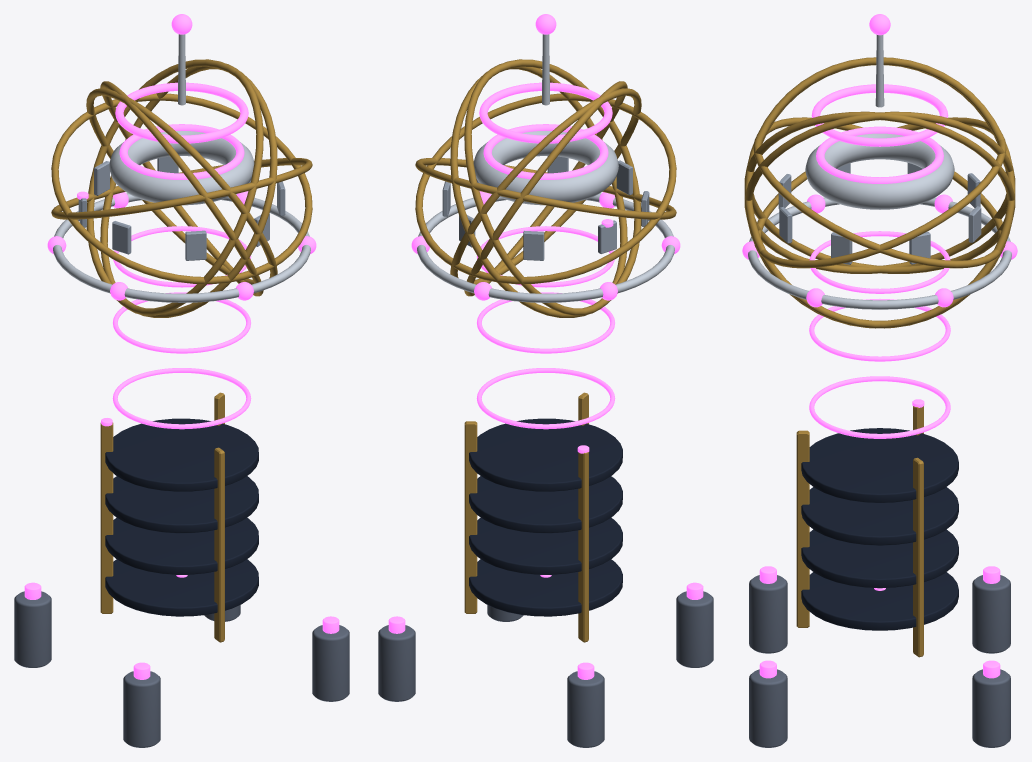
The model's file is tower_arc_damage_s10.glb.
3 views of the same model, side by side, from view 1: azimuth 30°, elevation 25°; view 2: azimuth 150°, elevation 25°; view 3: azimuth 270°, elevation 25° (orthographic). The views are drawn at different scales.
Visible parts, largest first — view 1: arc_insulator_sleeve3, arc_insulator_sleeve2, arc_insulator_sleeve1, arc_insulator_sleeve0, arc_toroid_b, arc_cage_rib3, arc_cage_rib2, arc_cage_rib5, arc_electrode_ring, arc_cage_rib1, arc_cage_rib0, arc_cage_rib4 (+13 smaller); view 2: arc_insulator_sleeve3, arc_insulator_sleeve2, arc_insulator_sleeve1, arc_insulator_sleeve0, arc_toroid_b, arc_cage_rib0, arc_cage_rib5, arc_cage_rib2, arc_electrode_ring, arc_cage_rib4, arc_cage_rib3, arc_cage_rib1 (+12 smaller); view 3: arc_insulator_sleeve3, arc_toroid_b, arc_insulator_sleeve2, arc_insulator_sleeve1, arc_insulator_sleeve0, arc_cage_rib2, arc_cage_rib5, arc_electrode_ring, arc_cage_rib0, arc_cage_rib3, arc_cage_rib1, arc_cage_rib4 (+14 smaller).
Boxes of the visible parts, box(x1,y1,x2,y2) form: arc_insulator_sleeve3: box(105, 418, 258, 491); arc_insulator_sleeve2: box(105, 476, 258, 533); arc_insulator_sleeve1: box(105, 517, 258, 574); arc_insulator_sleeve0: box(105, 559, 258, 616); arc_toroid_b: box(109, 131, 254, 205); arc_cage_rib3: box(51, 93, 312, 284); arc_cage_rib2: box(86, 59, 277, 317); arc_cage_rib5: box(100, 64, 263, 315); arc_electrode_ring: box(53, 193, 310, 302); arc_cage_rib1: box(86, 88, 277, 284); arc_cage_rib0: box(51, 158, 312, 219); arc_cage_rib4: box(100, 81, 263, 296); arc_insulator_sleeve3: box(469, 418, 622, 491); arc_insulator_sleeve2: box(469, 476, 622, 533); arc_insulator_sleeve1: box(469, 517, 622, 574); arc_insulator_sleeve0: box(469, 559, 622, 616); arc_toroid_b: box(473, 131, 618, 205); arc_cage_rib0: box(415, 93, 676, 284); arc_cage_rib5: box(450, 59, 641, 317); arc_cage_rib2: box(464, 64, 627, 315); arc_electrode_ring: box(417, 193, 674, 302); arc_cage_rib4: box(450, 88, 641, 284); arc_cage_rib3: box(415, 158, 676, 219); arc_cage_rib1: box(464, 81, 627, 296); arc_insulator_sleeve3: box(801, 428, 958, 503); arc_toroid_b: box(805, 133, 954, 209); arc_insulator_sleeve2: box(801, 487, 958, 545); arc_insulator_sleeve1: box(801, 529, 958, 588); arc_insulator_sleeve0: box(801, 572, 958, 630); arc_cage_rib2: box(744, 111, 1015, 273); arc_cage_rib5: box(744, 111, 1015, 273); arc_electrode_ring: box(748, 197, 1011, 309); arc_cage_rib0: box(753, 117, 1005, 268); arc_cage_rib3: box(754, 117, 1006, 268); arc_cage_rib1: box(744, 57, 1015, 328); arc_cage_rib4: box(744, 57, 1015, 328).
Size of the model in its own units: 1.28 by 3.51 by 1.29.
